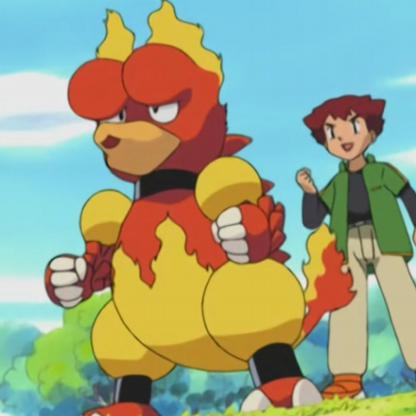Magmar: (1, 9, 416, 416)
